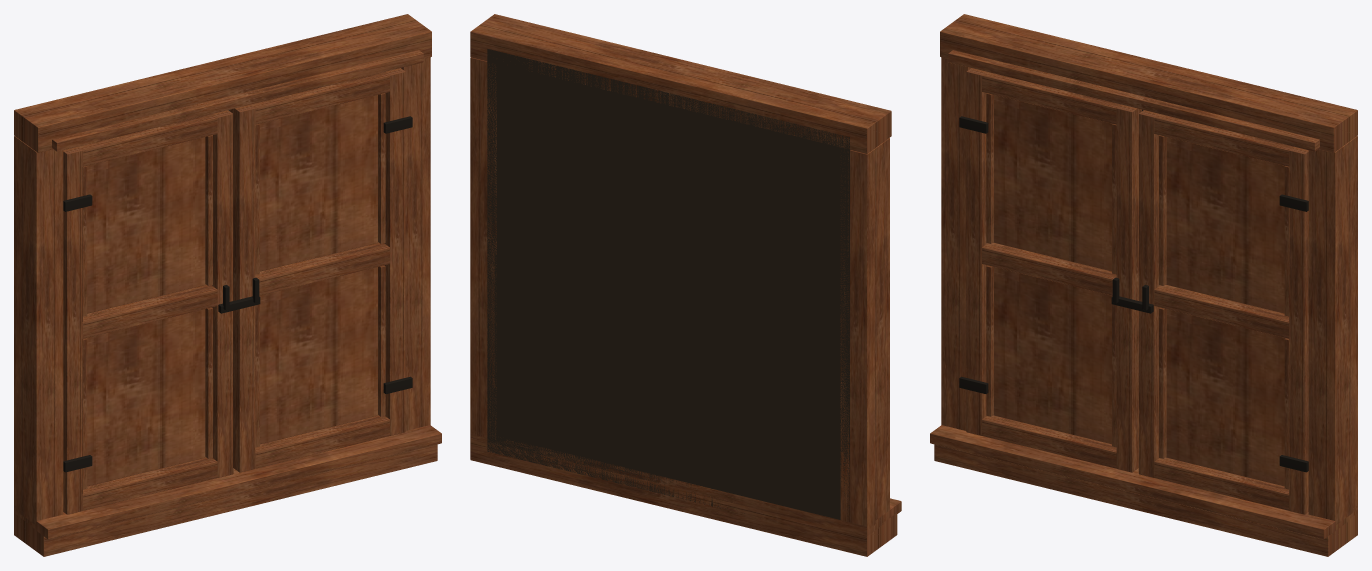
File: shutter-paneled.glb
3 renders of one model, left to right at view 1: azimuth 30°, elevation 25°; view 2: azimuth 150°, elevation 25°; view 3: azimuth 330°, elevation 25°, orthographic.
Visible parts, largest first — view 1: shutter-paneled; view 2: shutter-paneled; view 3: shutter-paneled.
Boxes of the visible parts, bbox=[...] form: shutter-paneled: bbox=[14, 14, 441, 556]; shutter-paneled: bbox=[470, 14, 901, 556]; shutter-paneled: bbox=[930, 14, 1357, 556].
Bounding box in the file's own units: 1.6 × 1.65 × 0.24.
2 materials, 1 textured.
